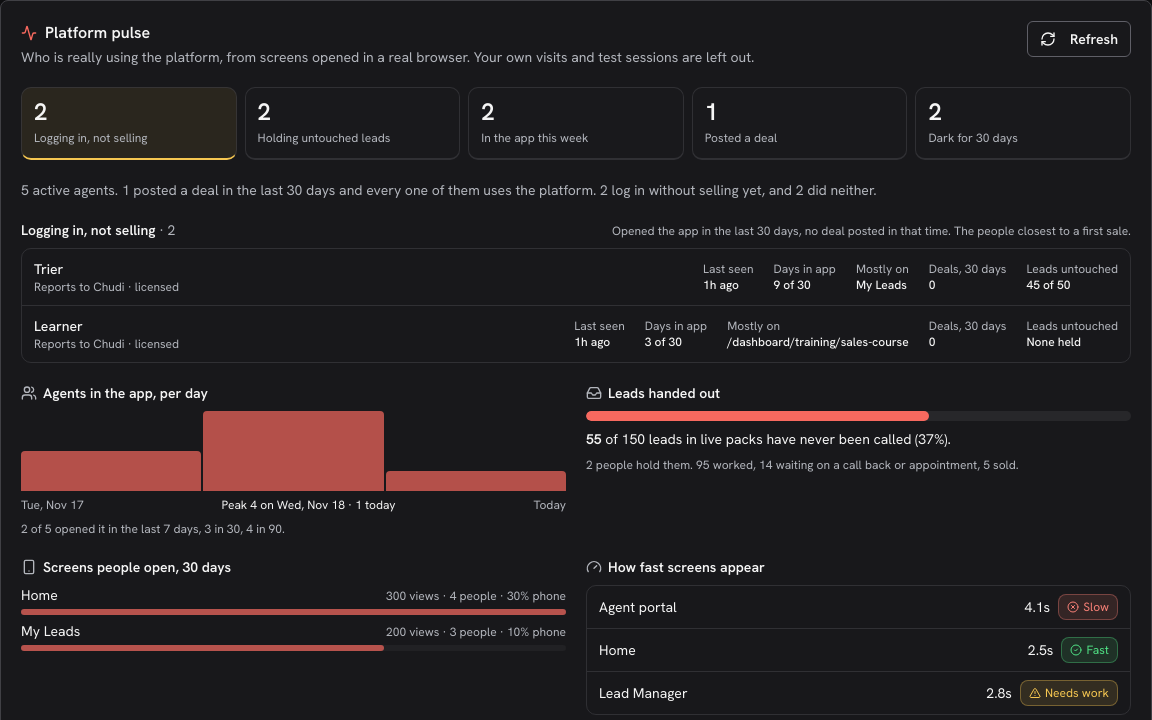
Test case: PlatformPulsePanel › each tile counts its group and filters the list; untouched leads sort worst first
expect the list with test id "pulse-roster" is shown: met, box [21, 248, 1131, 363]
expect the button "2 Dark for 30 days" is shown: met, box [915, 87, 1131, 160]
Click the button "2 Holding untouched leads".
click(352, 124)  # box [245, 87, 460, 160]
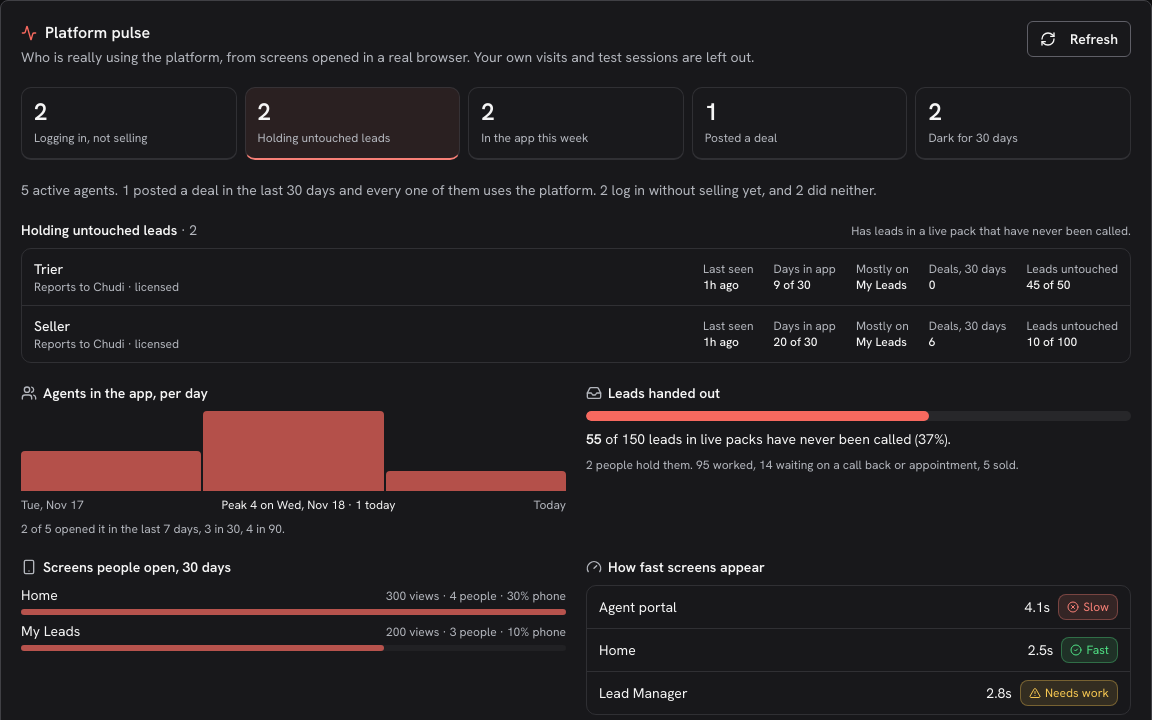
expect the text "45 of 50" is shown: met, box [1026, 277, 1070, 293]
Click the button "2 Dark for 30 days".
click(1023, 124)  # box [915, 87, 1131, 160]
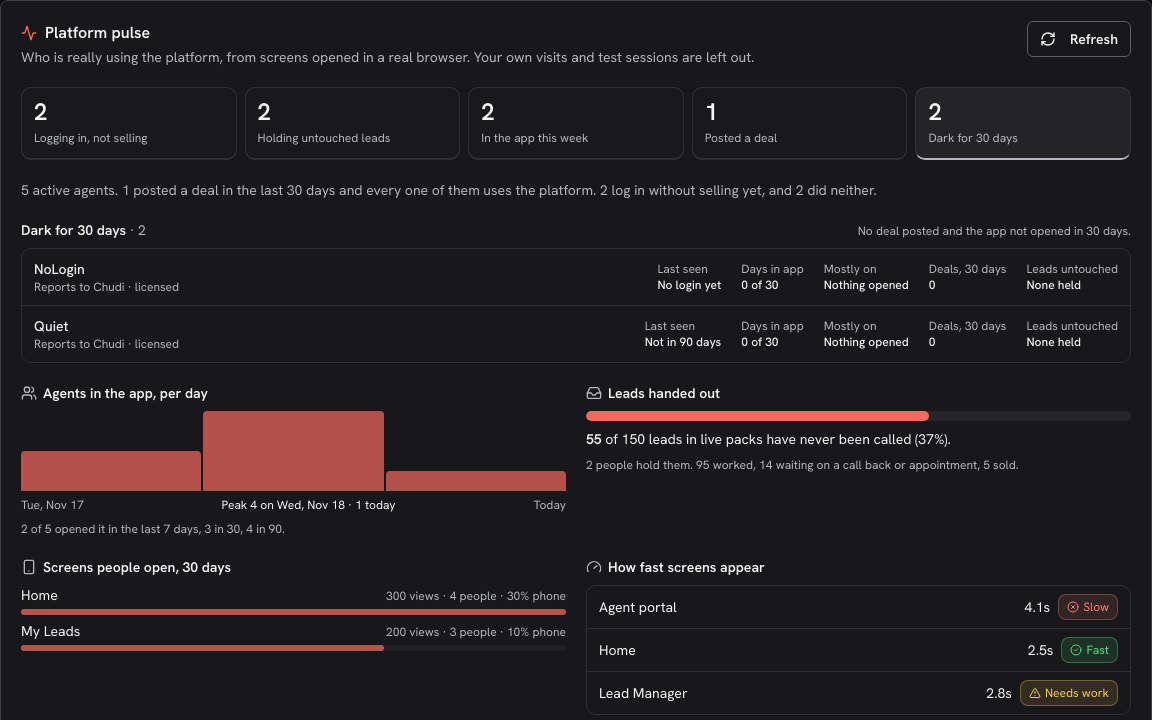
expect the text "No login yet" is shown: met, box [657, 277, 721, 293]
expect the text "Not in 90 days" is shown: met, box [645, 334, 721, 350]
